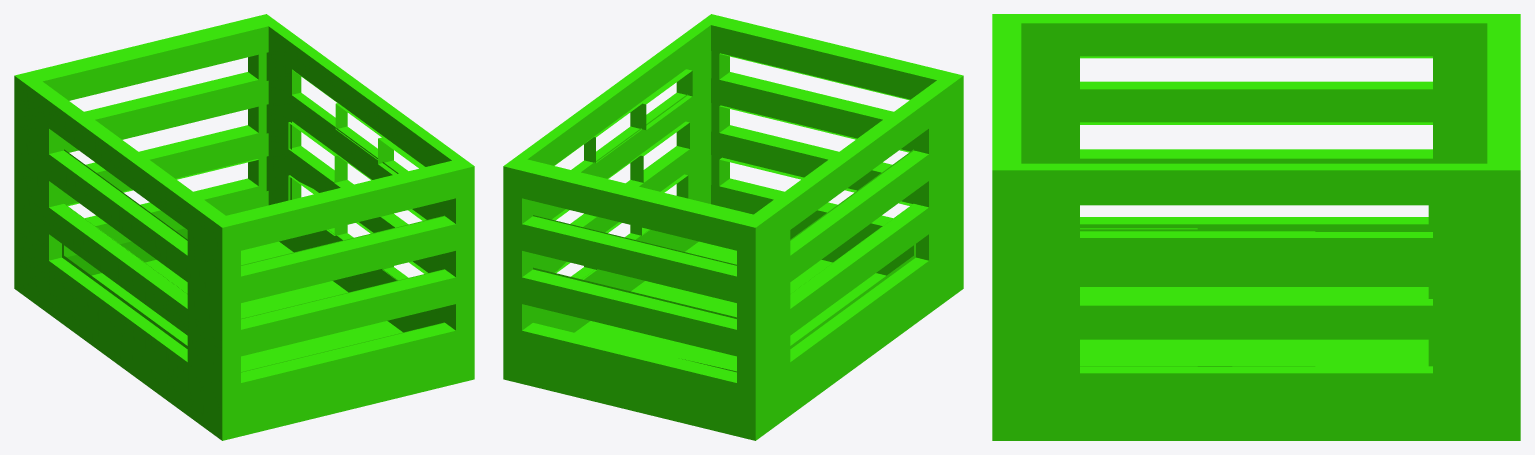
3 views of the same model, side by side, from view 1: azimuth 30°, elevation 25°; view 2: azimuth 150°, elevation 25°; view 3: azimuth 270°, elevation 25° (orthographic). The views are drawn at different scales.
Parts seen in each view (by area): view 1: Cube; view 2: Cube; view 3: Cube.
Boxes of the visible parts, bbox=[...] form: Cube: bbox=[14, 14, 474, 440]; Cube: bbox=[503, 14, 963, 440]; Cube: bbox=[992, 14, 1520, 440].
Bounding box in the file's own units: 248 × 200 × 354.
